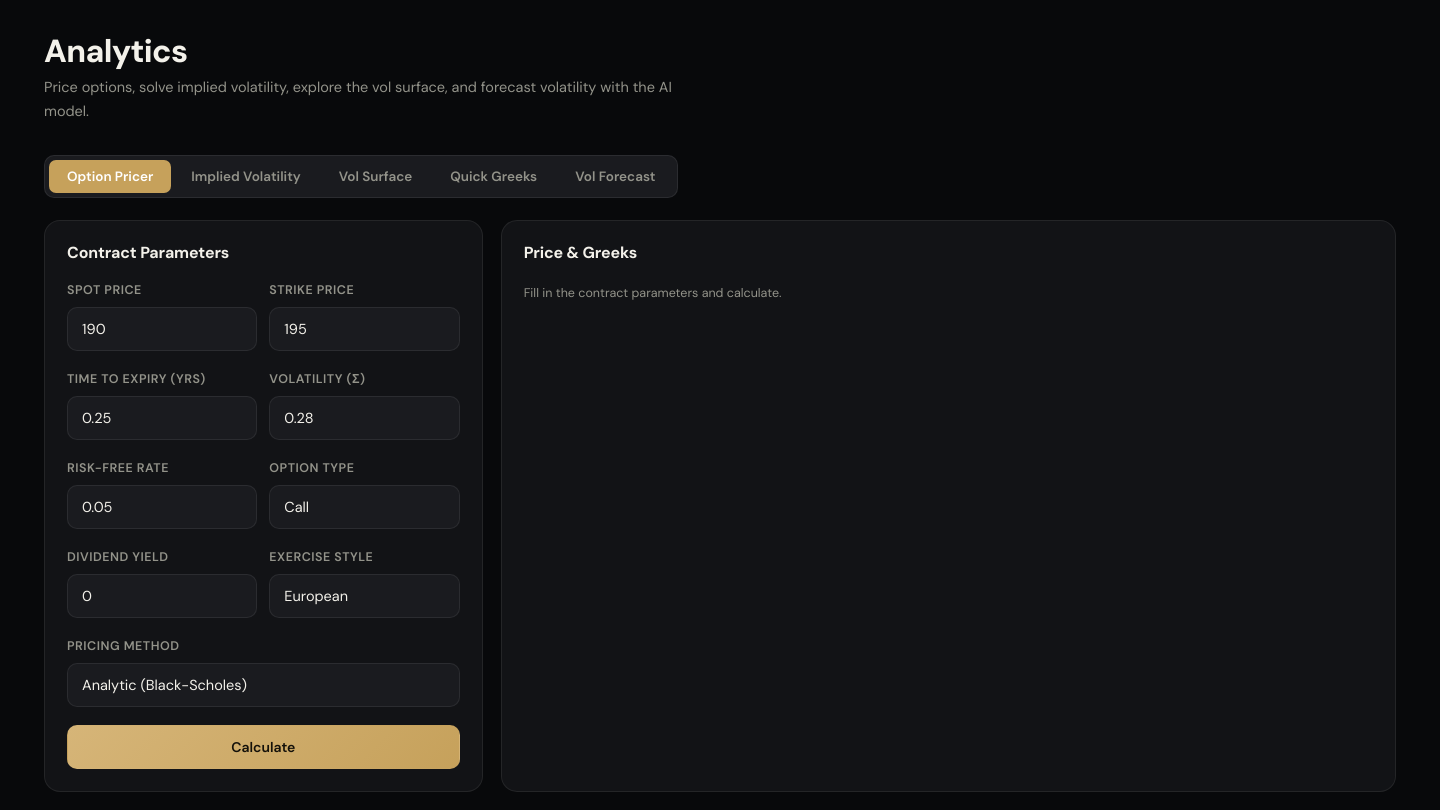
Scenario: Option pricer › shows a dash for a missing rho and no std error rows
What coordinates should you click on to do the following:
click the button "Calculate"
I would click on:
 (263, 747)
Its box is [67,725,460,769].
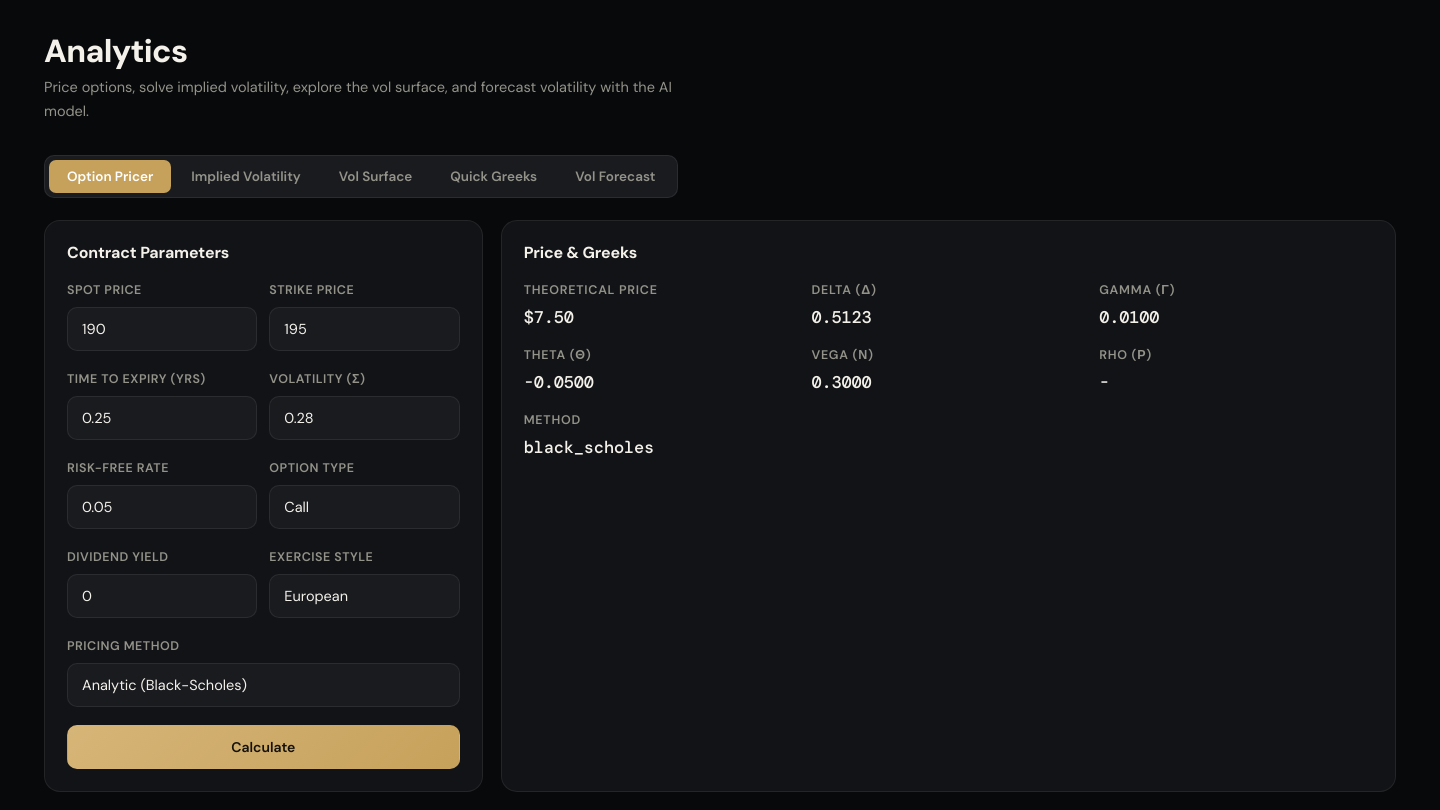
Expected: the text "$7.50" is shown, [524,306,574,328]
Expected: the text "-" is shown, [1099,371,1109,393]
